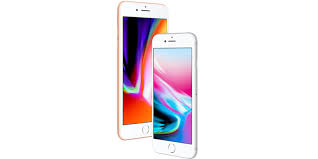iphone: (150, 29, 201, 158)
iphone8: (151, 29, 202, 158)
